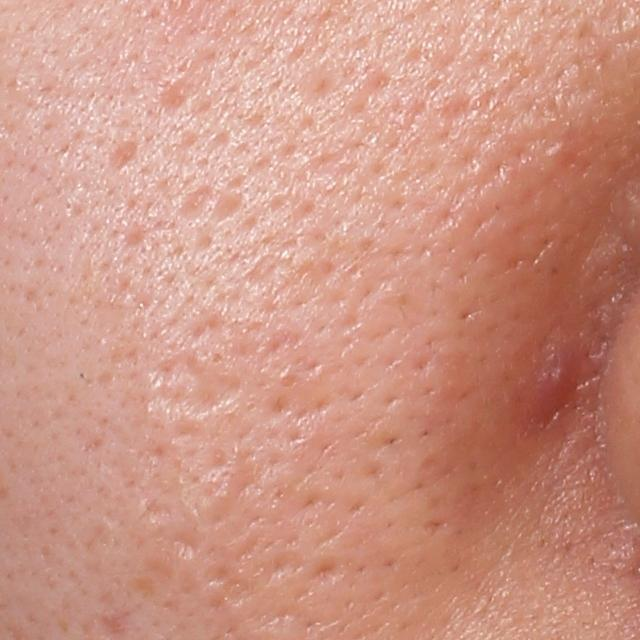atrophic_scar: (144, 347, 246, 430), (154, 515, 204, 564), (203, 558, 254, 604), (150, 69, 191, 123), (174, 177, 214, 217), (212, 187, 249, 222), (306, 558, 344, 586), (105, 140, 137, 169)
papule: (520, 337, 581, 433)
